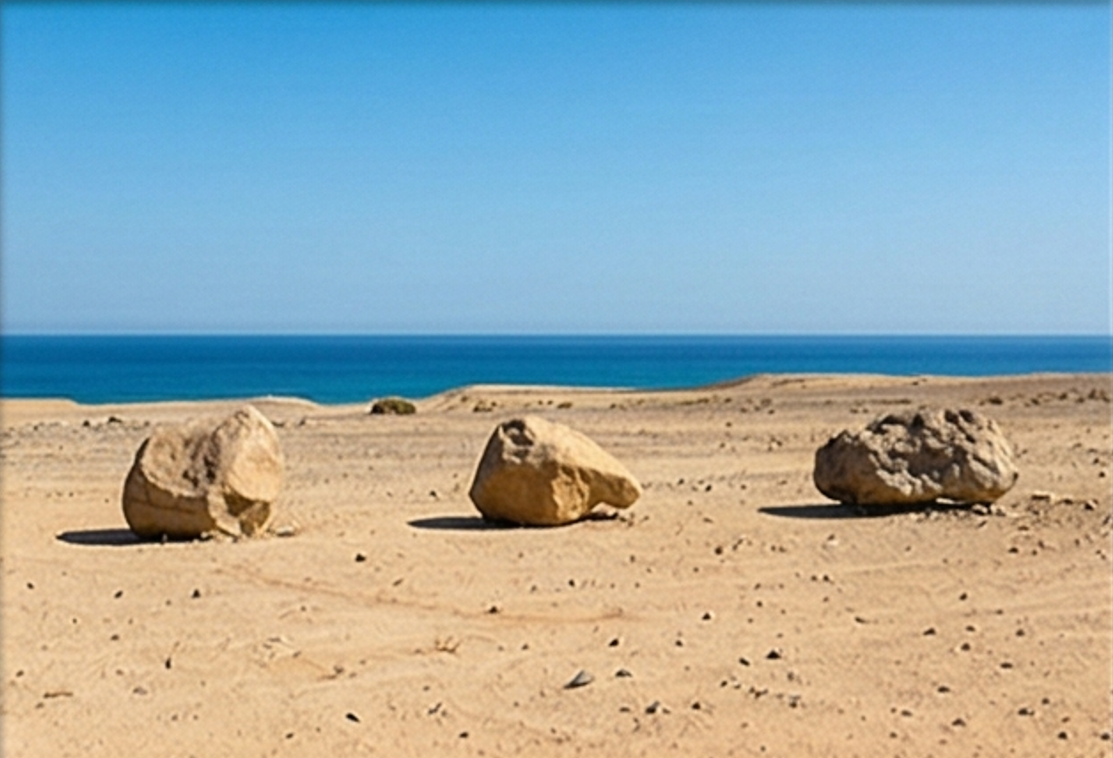rocks: (125, 406, 282, 535), (814, 409, 1017, 505), (469, 415, 641, 525)
